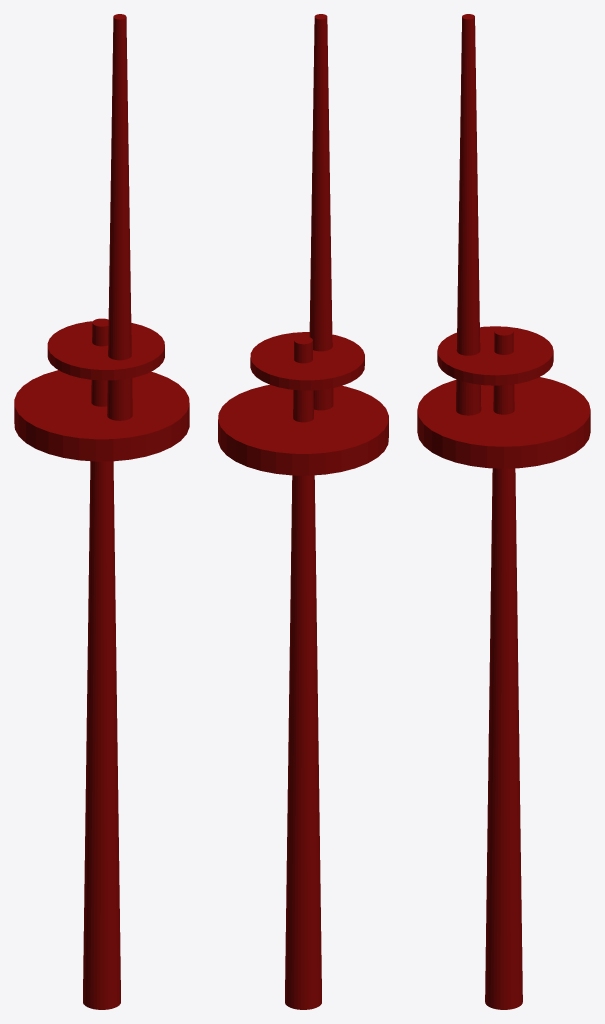
Rendered from Rojo6.fbx.
3 renders of one model, left to right at view 1: azimuth 30°, elevation 25°; view 2: azimuth 150°, elevation 25°; view 3: azimuth 270°, elevation 25°, orthographic. The views are drawn at different scales.
Visible parts, largest first — view 1: Mastil_Rojo; view 2: Mastil_Rojo; view 3: Mastil_Rojo.
Part boxes in pixels (x1,y1,x2,y2): Mastil_Rojo: [14, 14, 189, 1009]; Mastil_Rojo: [218, 14, 388, 1009]; Mastil_Rojo: [417, 14, 590, 1009].
Bounding box in the file's own units: 1.19 × 7.47 × 1.19.
